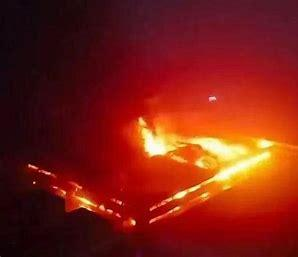smoke: (137, 115, 284, 157), (194, 148, 272, 180), (61, 182, 101, 212), (165, 187, 212, 208)
